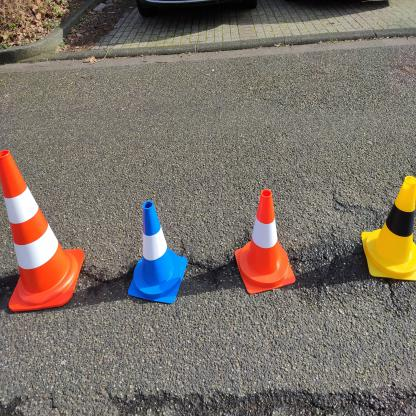Cones_big: (0, 143, 105, 317)
Cones_small_blue: (110, 171, 193, 313)
Cones_small_orange: (224, 174, 306, 300)
Cones_small_yellow: (355, 158, 415, 293)
